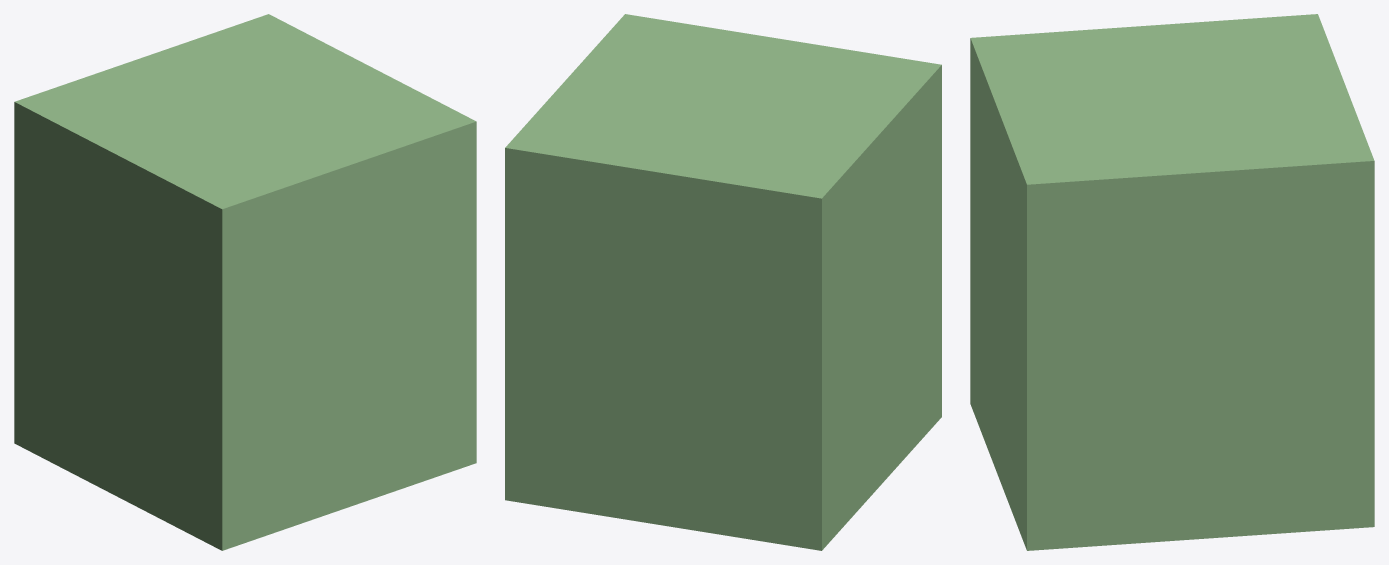
File: shrub-box-far.glb
3 views of the same model, side by side, from view 1: azimuth 30°, elevation 25°; view 2: azimuth 150°, elevation 25°; view 3: azimuth 270°, elevation 25° (orthographic). The views are drawn at different scales.
Visible parts, largest first — view 1: shrub-box-far; view 2: shrub-box-far; view 3: shrub-box-far.
Part boxes in pixels (x1,y1,x2,y2): shrub-box-far: [14, 14, 476, 550]; shrub-box-far: [505, 14, 941, 550]; shrub-box-far: [970, 14, 1374, 550].
Bounding box in the file's own units: 1 × 1 × 1.
